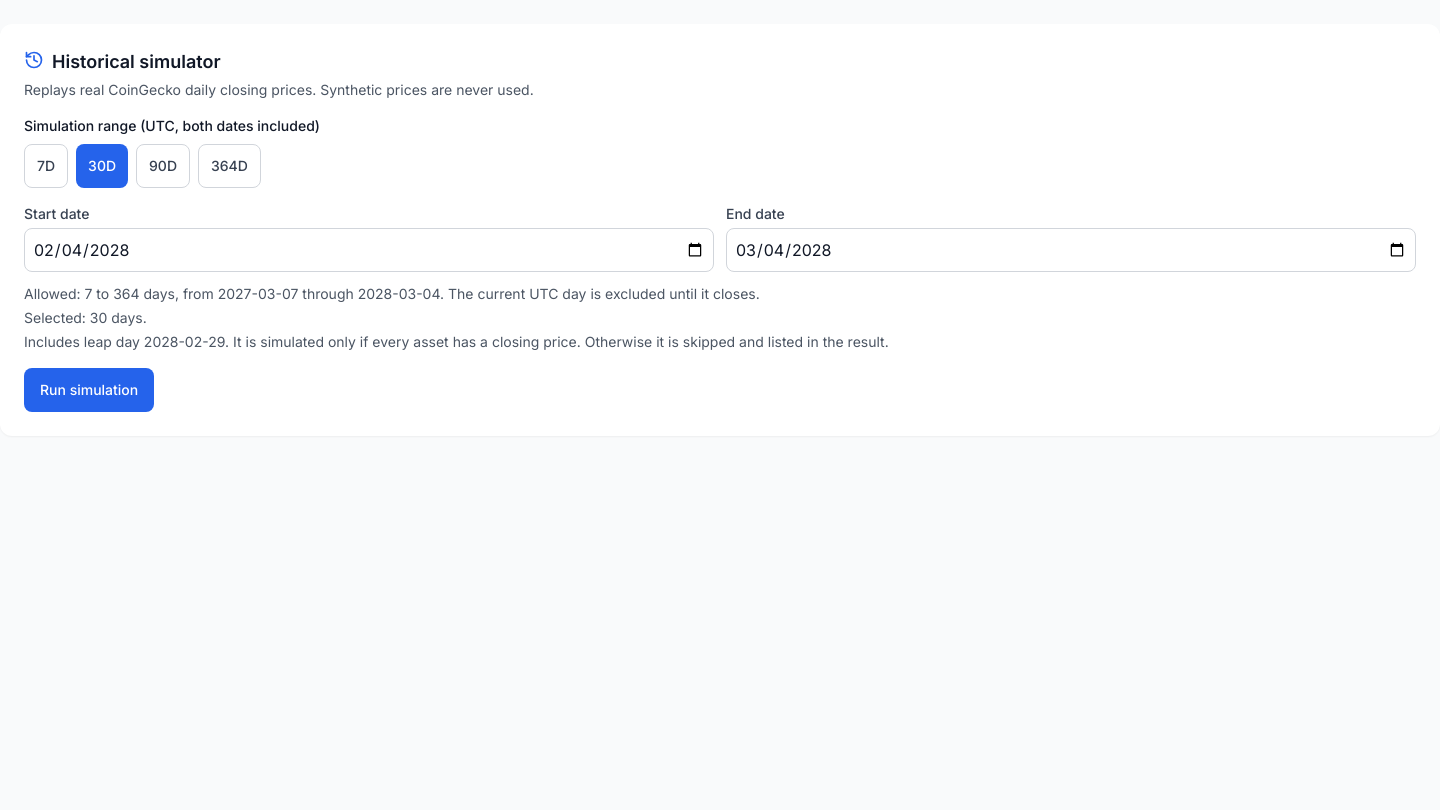
Test: HistoricalSimulator › reports a skipped leap day and partial coverage
Click the button named "Use the last 7 closed days": x=46, y=166 [24,144,68,188]
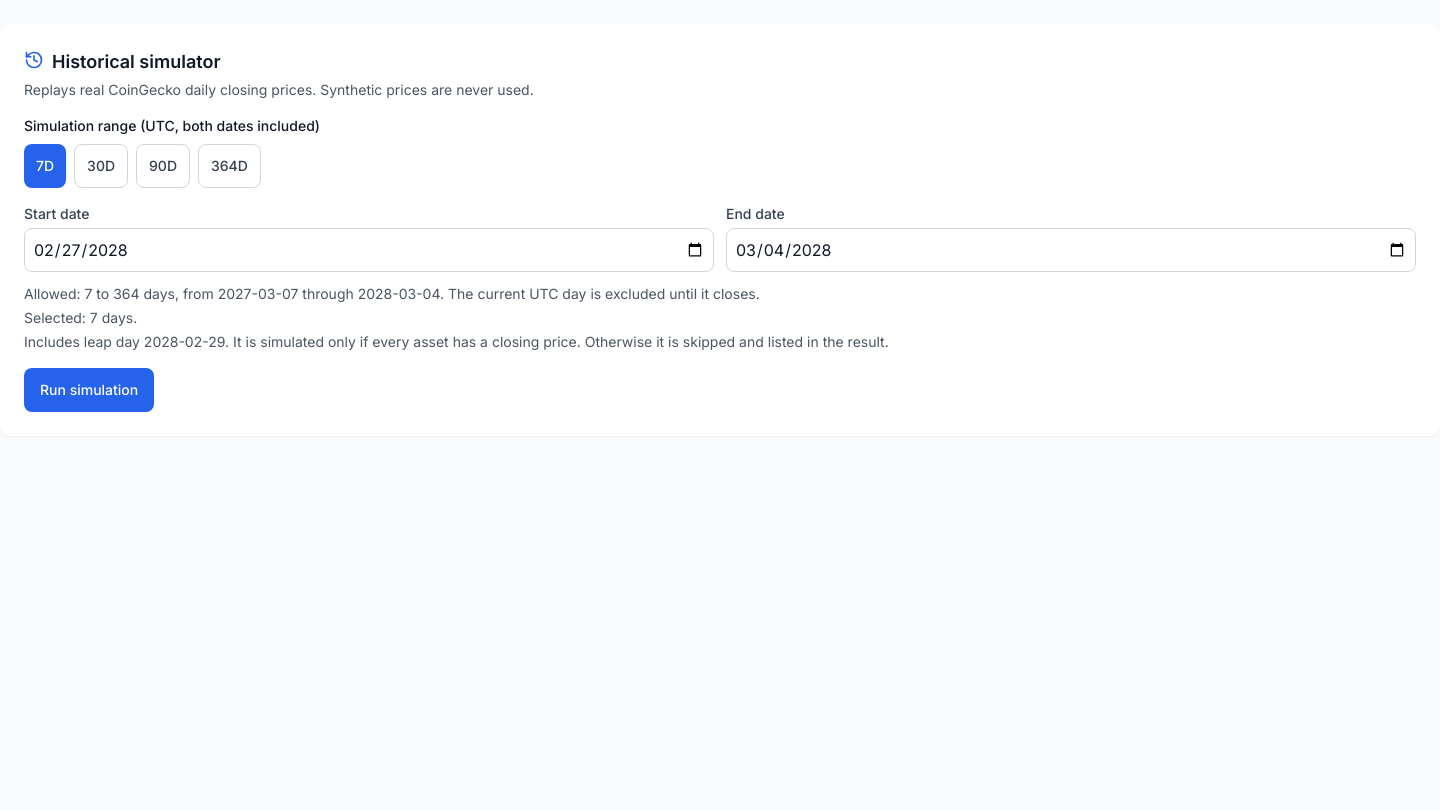
Click the button "Run simulation": x=89, y=390 [24,368,154,412]
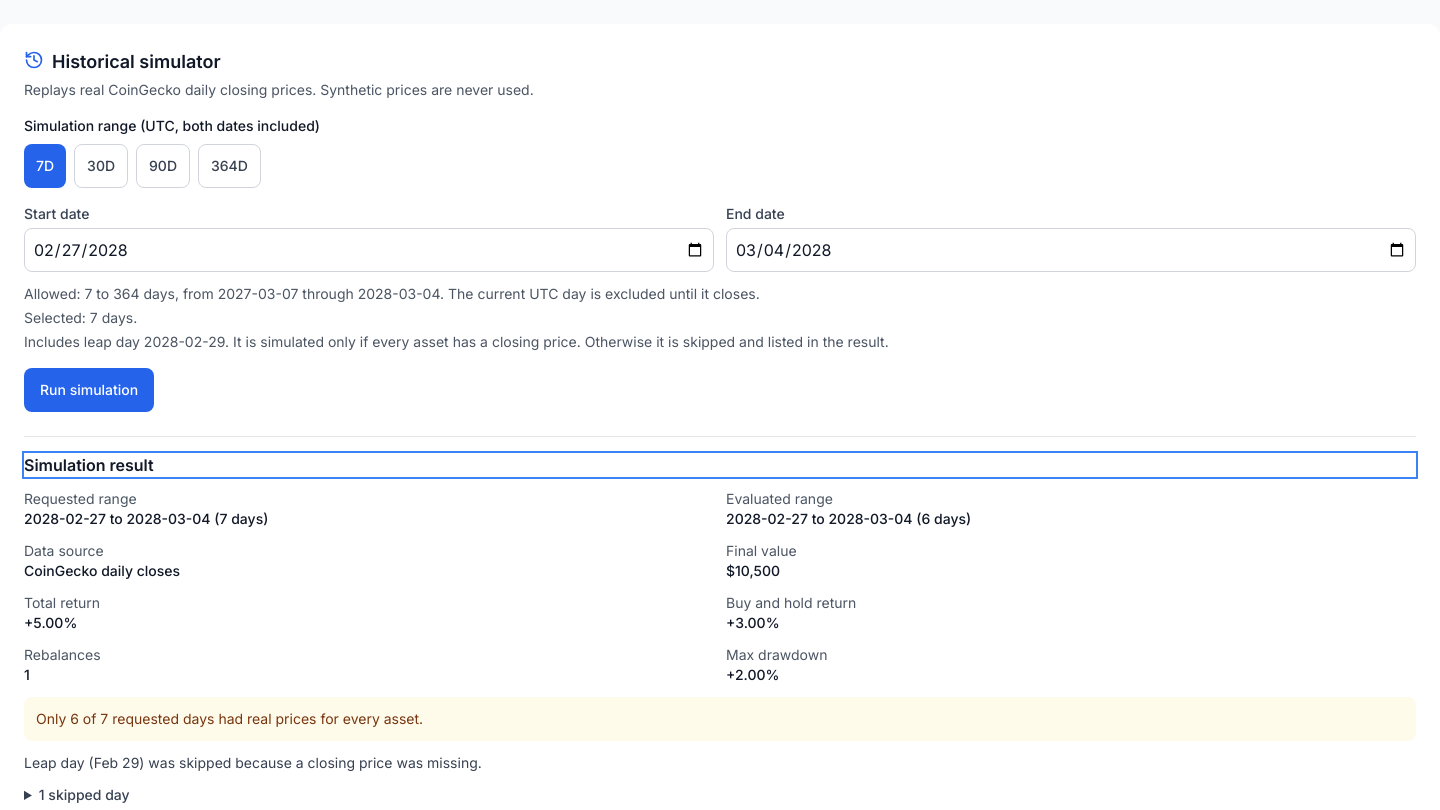
Result: the text "Only 6 of 7 requested days had real prices for every asset." is shown at [24,697,1416,741]
Result: the text "Leap day (Feb 29) was skipped because a closing price was missing." is shown at [24,754,482,771]
